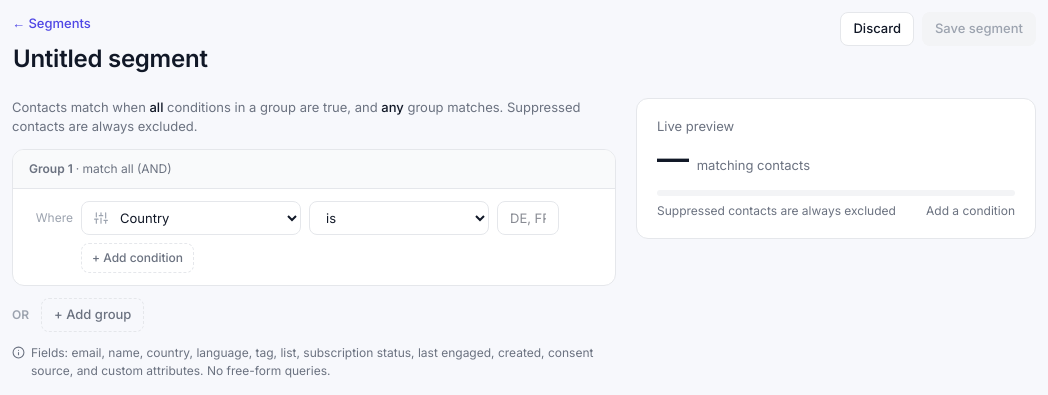
Test: the segment builder (D5b) › recomputes the preview when a value changes
Type "DE" into the field named "Value" at (528, 218), box 497,200 -> 559,234
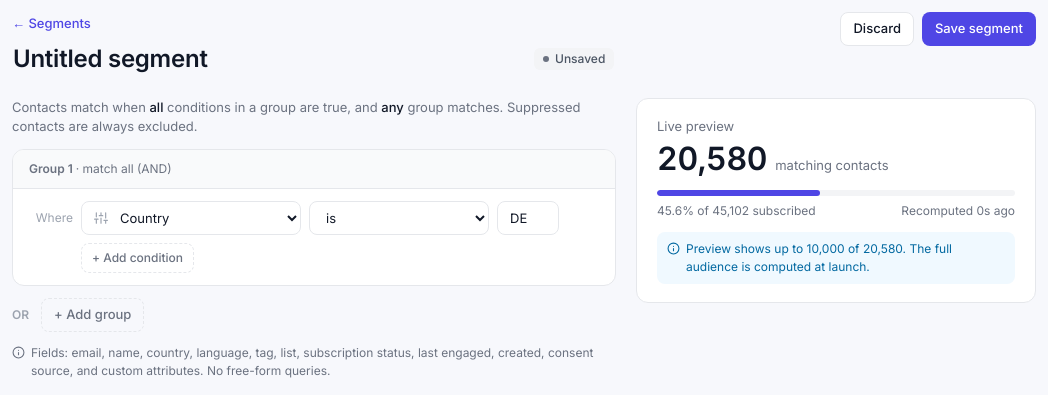
Expected: the text "matching contacts" is shown, 775,156 -> 888,176
Now the text "20,580" is shown, box 657,140 -> 767,178
